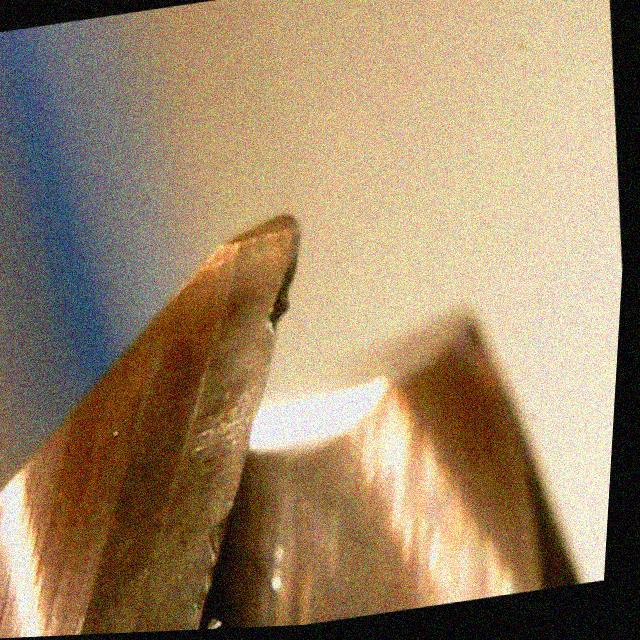Tool-wear-class-1: (135, 202, 362, 443)
